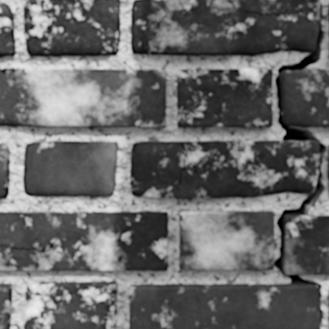brick: (130, 140, 317, 198), (131, 0, 319, 55), (0, 211, 167, 270), (0, 69, 165, 126), (129, 284, 319, 328), (179, 211, 273, 269), (177, 69, 272, 126), (23, 0, 120, 55), (23, 141, 117, 196), (24, 281, 116, 328), (282, 69, 328, 126), (284, 216, 328, 274), (0, 2, 15, 55), (0, 283, 11, 328), (0, 144, 9, 198), (327, 145, 328, 191)
crack: (273, 2, 326, 326), (176, 141, 201, 192), (0, 66, 27, 78), (178, 211, 184, 222)
